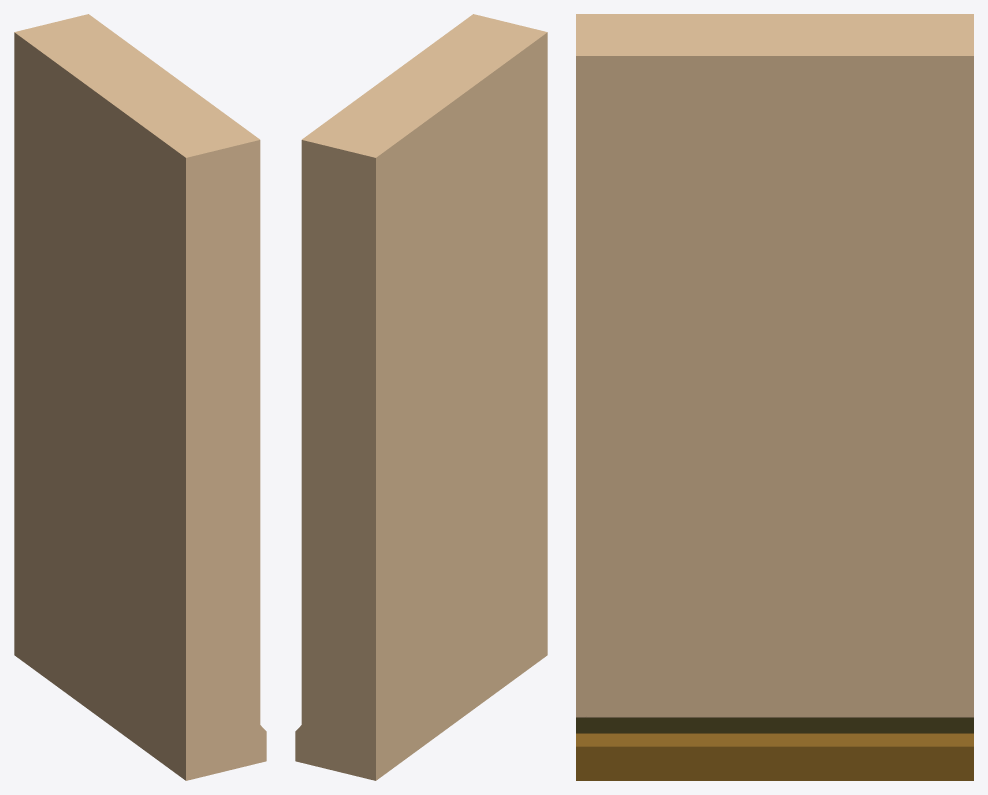
The model's file is wall1.fbx.
3 views of the same model, side by side, from view 1: azimuth 30°, elevation 25°; view 2: azimuth 150°, elevation 25°; view 3: azimuth 270°, elevation 25° (orthographic). The views are drawn at different scales.
Parts seen in each view (by area): view 1: Wall; view 2: Wall; view 3: Wall.
Part boxes in pixels (box(x1,y1,x2,y2)): Wall: box(14, 14, 266, 780); Wall: box(295, 14, 547, 780); Wall: box(576, 14, 973, 780).
Bounding box in the file's own units: 54.23 × 400 × 200.
1 material, 1 textured.
